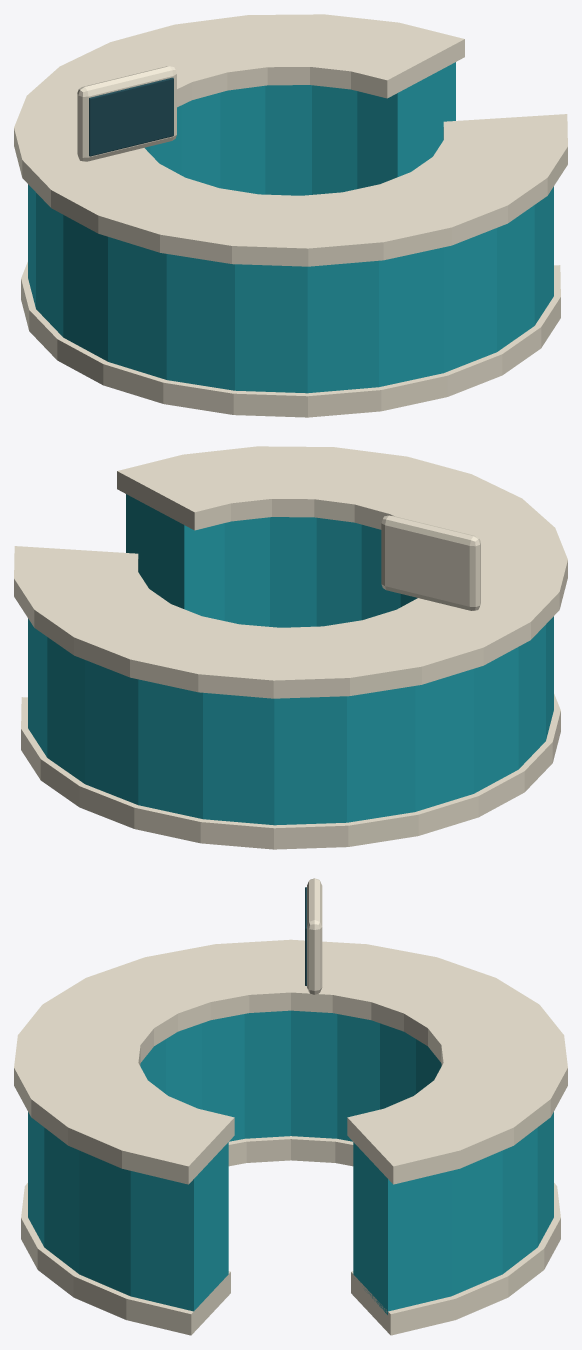
File: consultation_desk_advanced.glb
3 renders of one model, top to bottom at view 1: azimuth 30°, elevation 25°; view 2: azimuth 150°, elevation 25°; view 3: azimuth 270°, elevation 25°, orthographic.
Visible parts, largest first — view 1: STATIC_teal.024, STATIC_cream.021, STATIC_screen.012; view 2: STATIC_cream.021, STATIC_teal.024; view 3: STATIC_cream.021, STATIC_teal.024.
Boxes of the visible parts, x1,y1,x2,y2 form: STATIC_teal.024: [28, 62, 553, 393]; STATIC_cream.021: [14, 14, 567, 417]; STATIC_screen.012: [89, 77, 173, 156]; STATIC_cream.021: [14, 446, 567, 849]; STATIC_teal.024: [28, 494, 553, 825]; STATIC_cream.021: [14, 878, 567, 1335]; STATIC_teal.024: [28, 1010, 553, 1314].
Bounding box in the file's own units: 2.28 × 1.19 × 2.35.
